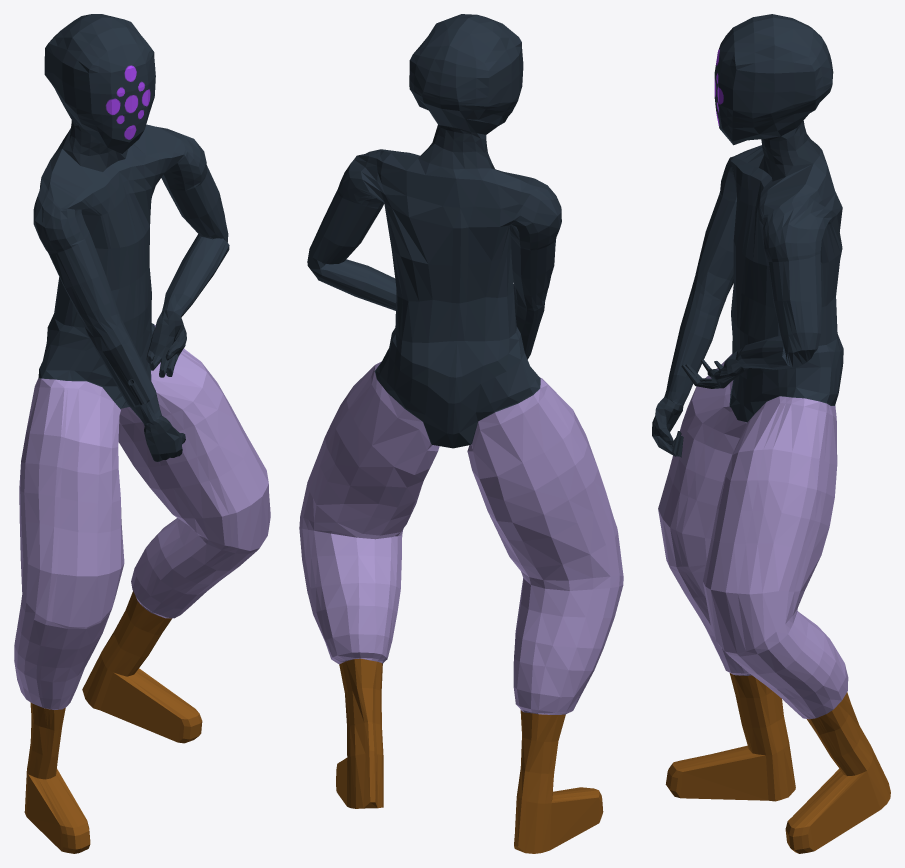
The model's file is Oracle_WR_000019.obj.
3 views of the same model, side by side, from view 1: azimuth 30°, elevation 25°; view 2: azimuth 150°, elevation 25°; view 3: azimuth 270°, elevation 25° (orthographic). The views are drawn at different scales.
Visible parts, largest first — view 1: Cube; view 2: Cube; view 3: Cube.
Part boxes in pixels (x1,y1,x2,y2): Cube: (14,14,270,853); Cube: (299,14,623,853); Cube: (652,14,890,853).
Size of the model in its own units: 1.4 by 3.82 by 1.02.
